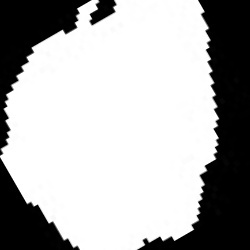spot: (2, 0, 217, 249)
